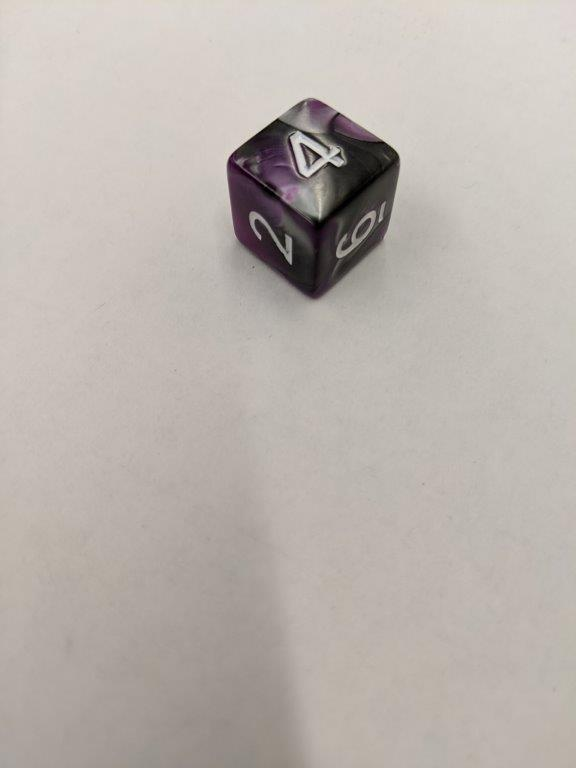d6-4: (227, 95, 401, 300)
